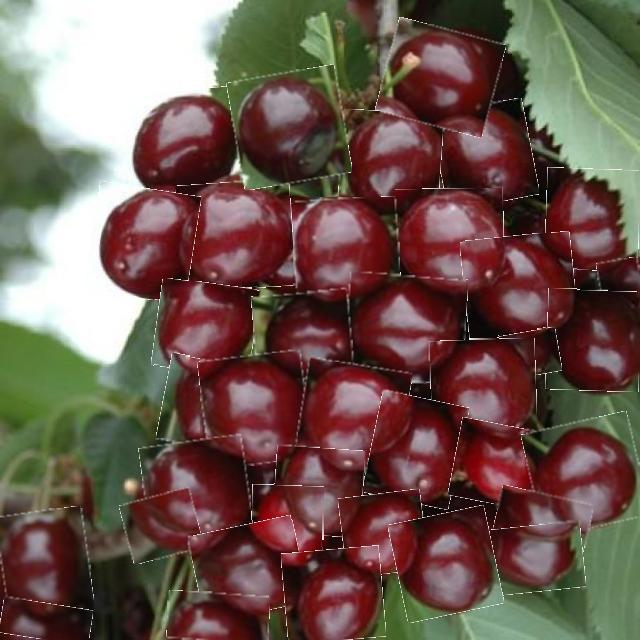cherry: (231, 69, 348, 186), (526, 417, 640, 533), (380, 24, 502, 132), (177, 180, 295, 291), (346, 275, 466, 383), (88, 184, 198, 301), (298, 362, 409, 473), (200, 353, 309, 466), (122, 90, 238, 196), (463, 233, 577, 339), (392, 509, 500, 619), (142, 438, 251, 545), (293, 198, 400, 306), (339, 111, 443, 219), (192, 520, 306, 618), (395, 189, 504, 289), (368, 394, 464, 506), (430, 339, 537, 439), (434, 102, 535, 207), (0, 508, 91, 619), (545, 168, 640, 271), (154, 282, 257, 376), (546, 290, 640, 391), (282, 547, 384, 640), (253, 291, 353, 380), (273, 447, 364, 536), (452, 420, 542, 507), (341, 492, 427, 576), (485, 524, 585, 594), (252, 484, 324, 566), (494, 490, 591, 548), (160, 356, 221, 446), (123, 491, 201, 560), (167, 591, 269, 640), (0, 600, 91, 640), (499, 329, 561, 378), (597, 258, 640, 297)
